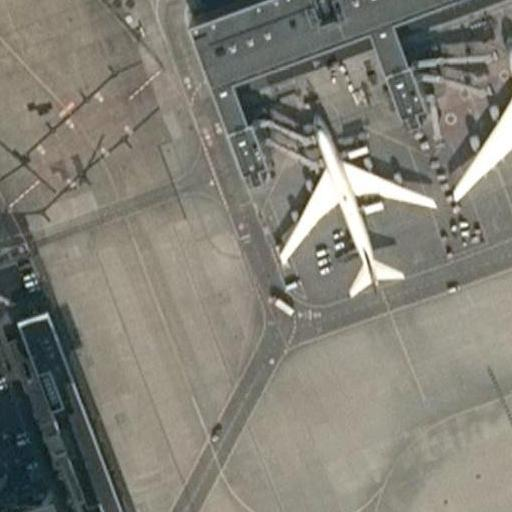Aircraft: (263, 116, 439, 299), (444, 30, 512, 233)
